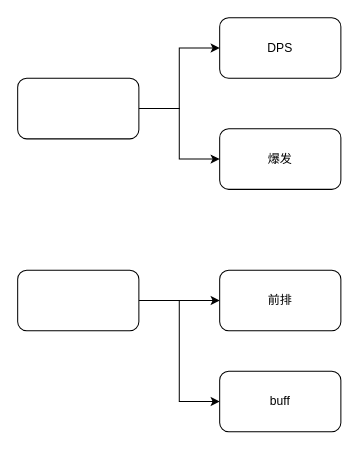
The diagram is 359 pixels wide and 449 high, and some of its shapes have lost their labels. The shapes that lost their labels are listed below. From the top down, each one's centre as x and y in pixels, then its label:
the point at 78,108: 输出
the point at 78,300: 辅助
